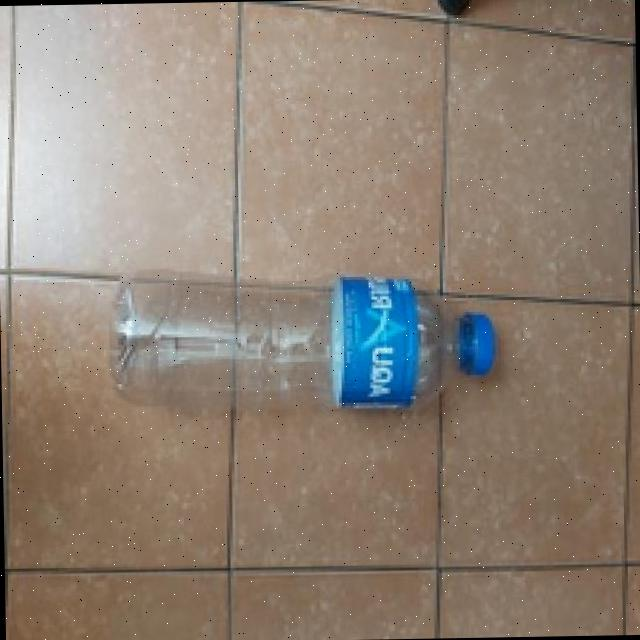bottle: (99, 264, 508, 422)
cap: (457, 314, 498, 379)
label: (330, 268, 416, 404)
